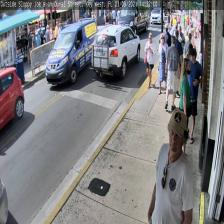person: (146, 108, 194, 224), (183, 48, 203, 143), (177, 58, 191, 159), (156, 32, 168, 94), (144, 32, 155, 88)
